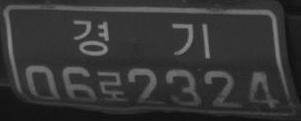0: (23, 64, 61, 101)
2: (203, 68, 242, 108), (128, 67, 164, 105)
3: (165, 67, 203, 107)
4: (247, 70, 280, 109)
6: (62, 65, 97, 103)
경기_D: (72, 19, 211, 59)
로: (97, 70, 127, 102)
